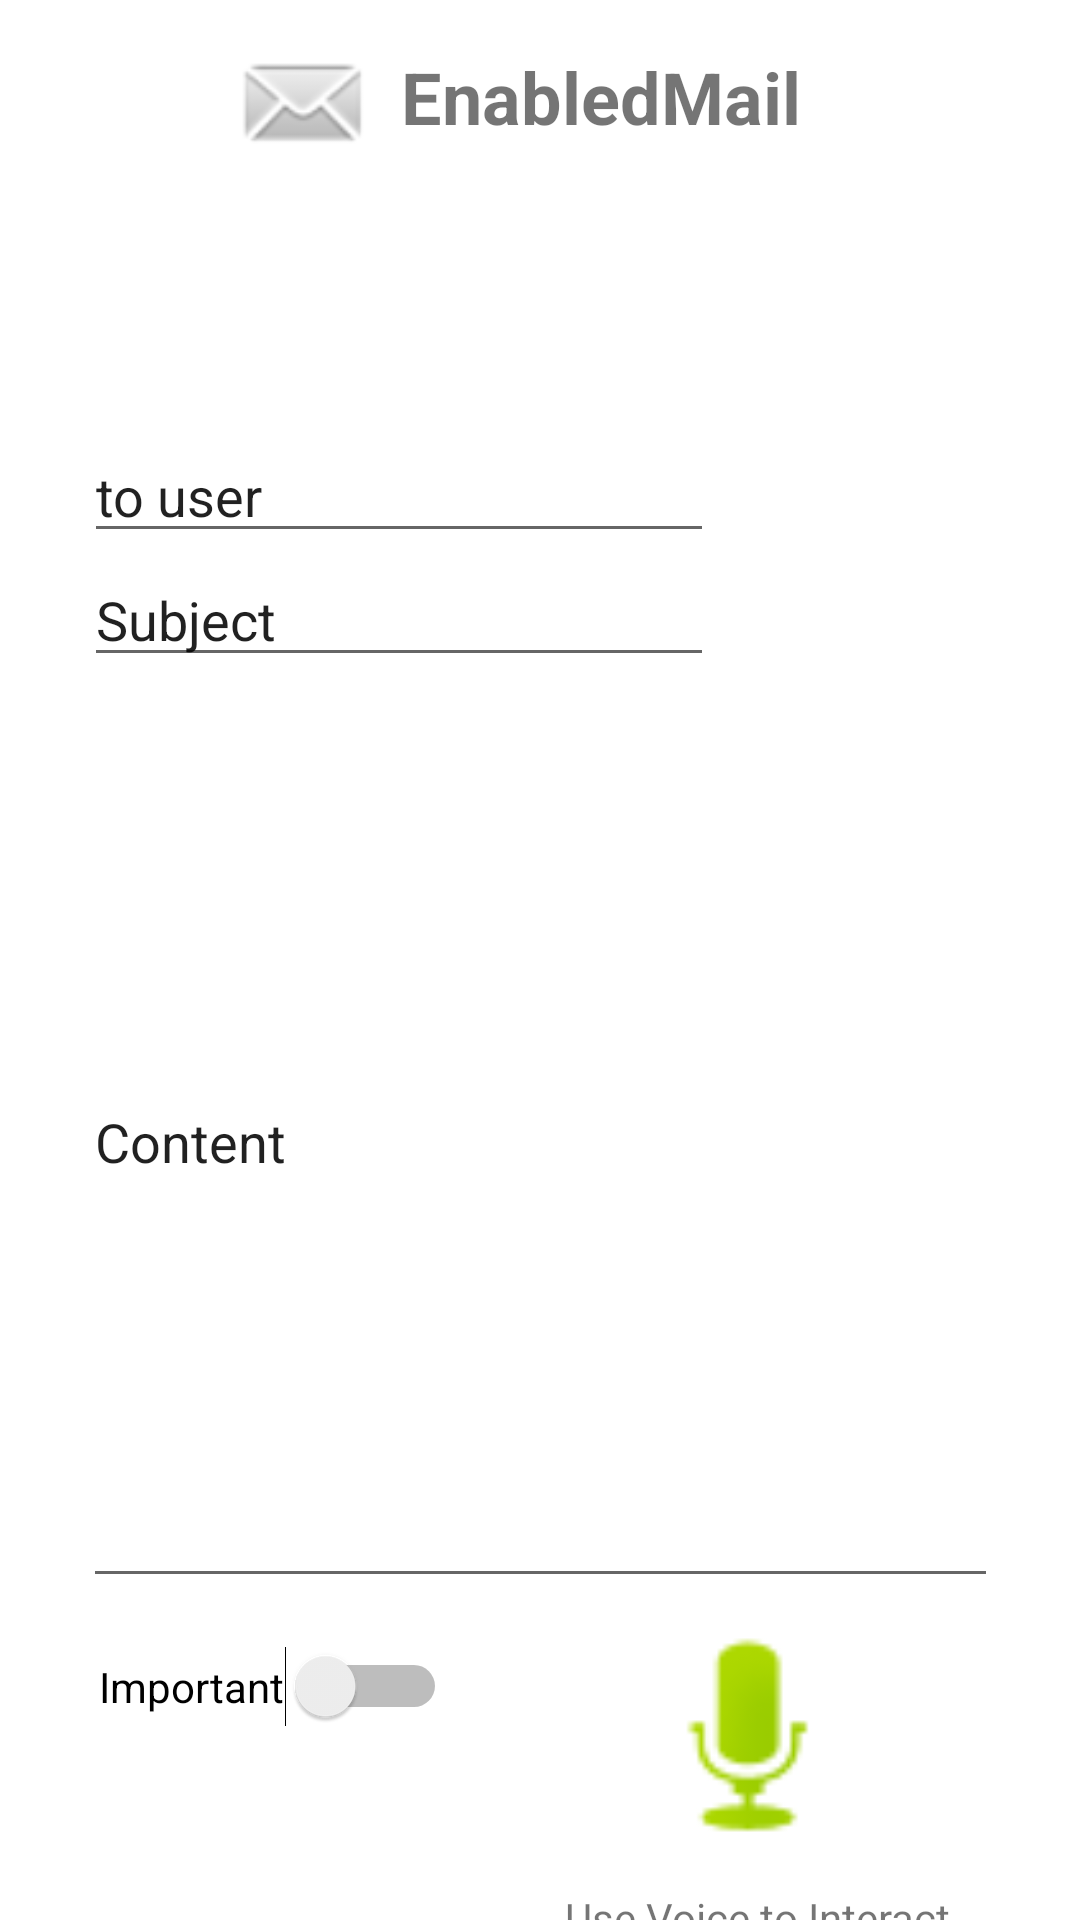

Named icons in this screenshot (1080w x 1920h) and their bounding boxes, (x1, y1, x2, y2):
presence audio online: (687, 1639, 808, 1832)
sym action email: (245, 64, 361, 141)
